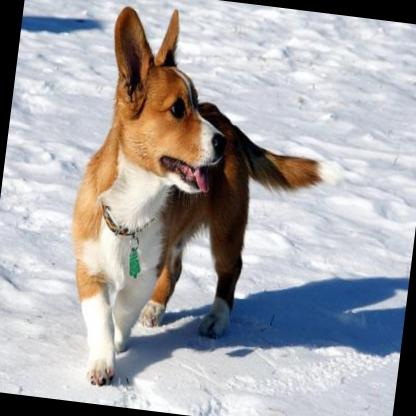Cardigan: (51, 0, 340, 413)
